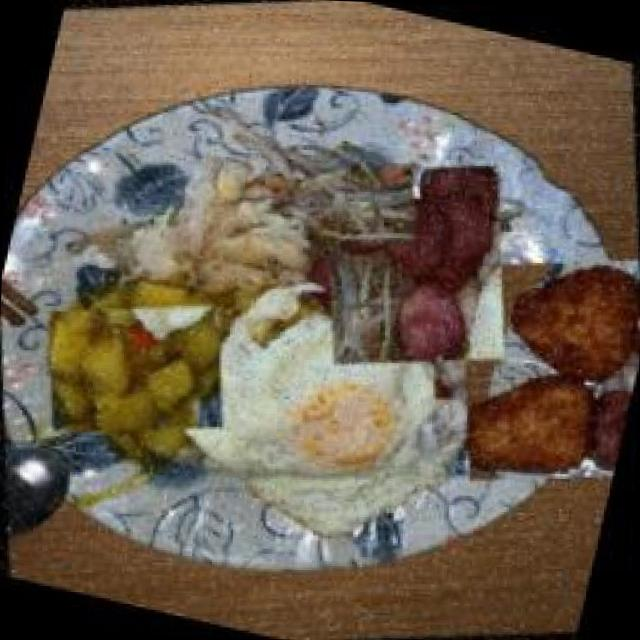chinese_cabbage: (106, 128, 332, 330)
chinese_sausage: (280, 129, 549, 398)
curry: (27, 260, 244, 477)
fried_eggs: (118, 224, 508, 596)
mung_bean_sprouts: (270, 123, 438, 274)
rice: (410, 308, 508, 409)
triangle_hash_brown: (410, 215, 640, 510)
